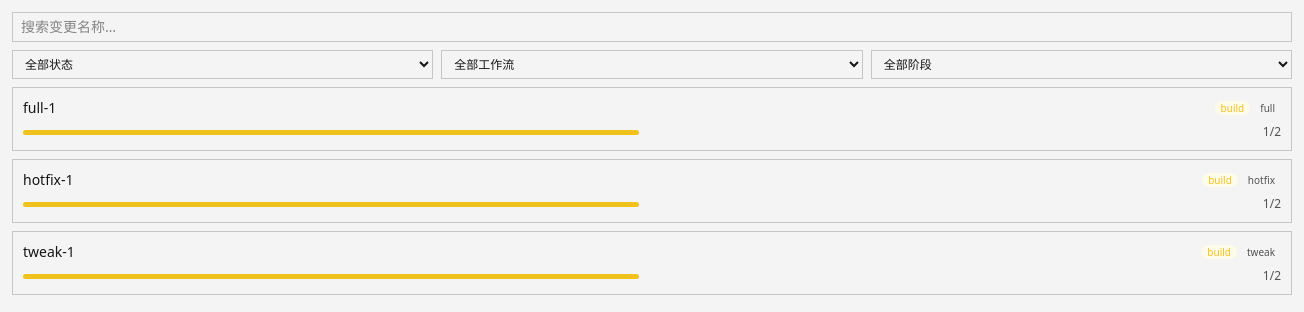
ChangeExplorer › filters by workflow using the workflow select
Select "hotfix" in the dropdown named "工作流" at (652, 64), box x1=441 y1=50 x2=863 y2=79
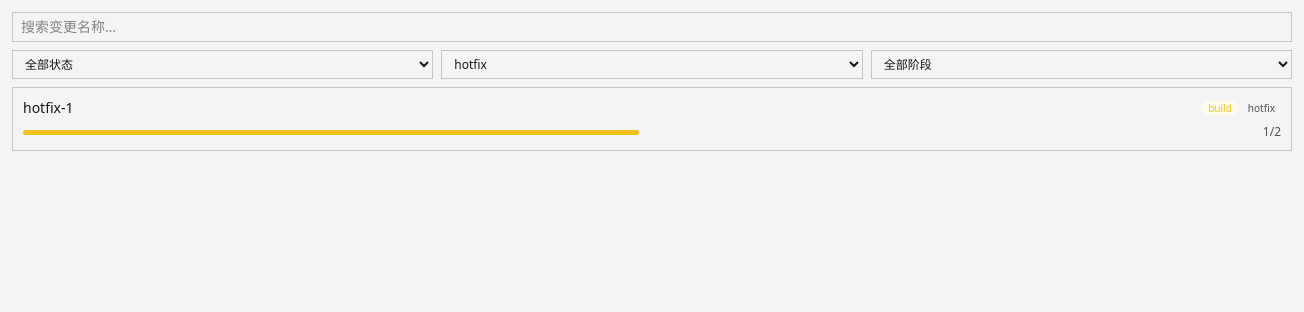
Expected: the text "hotfix-1" is shown, x1=23 y1=98 x2=74 y2=118
Now the text "full-1" is gone
Now the text "tweak-1" is gone
